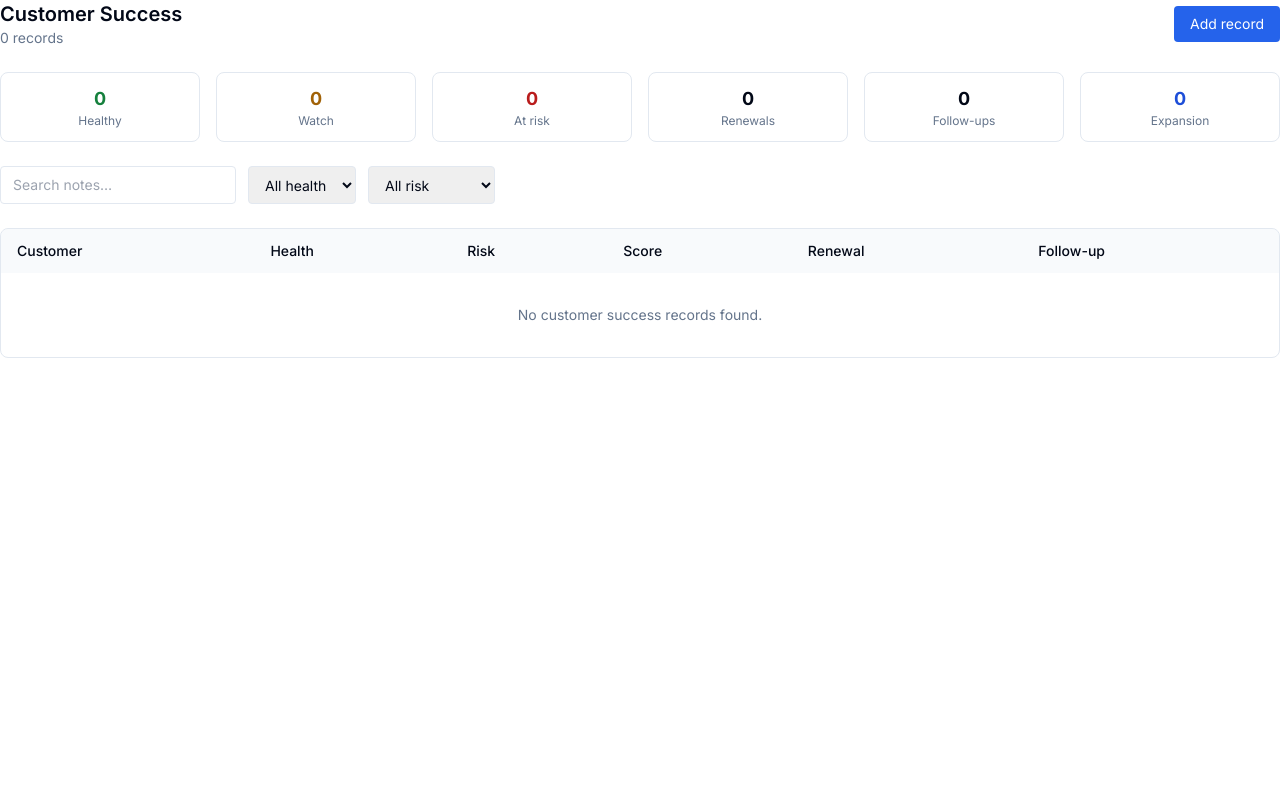
CustomerSuccessCenter › opens create-dialog on add-record-btn click
What coordinates should you click on to do the following:
click the button with test id "add-record-btn"
I would click on:
 (1227, 24)
Its box is [1174,6,1279,42].
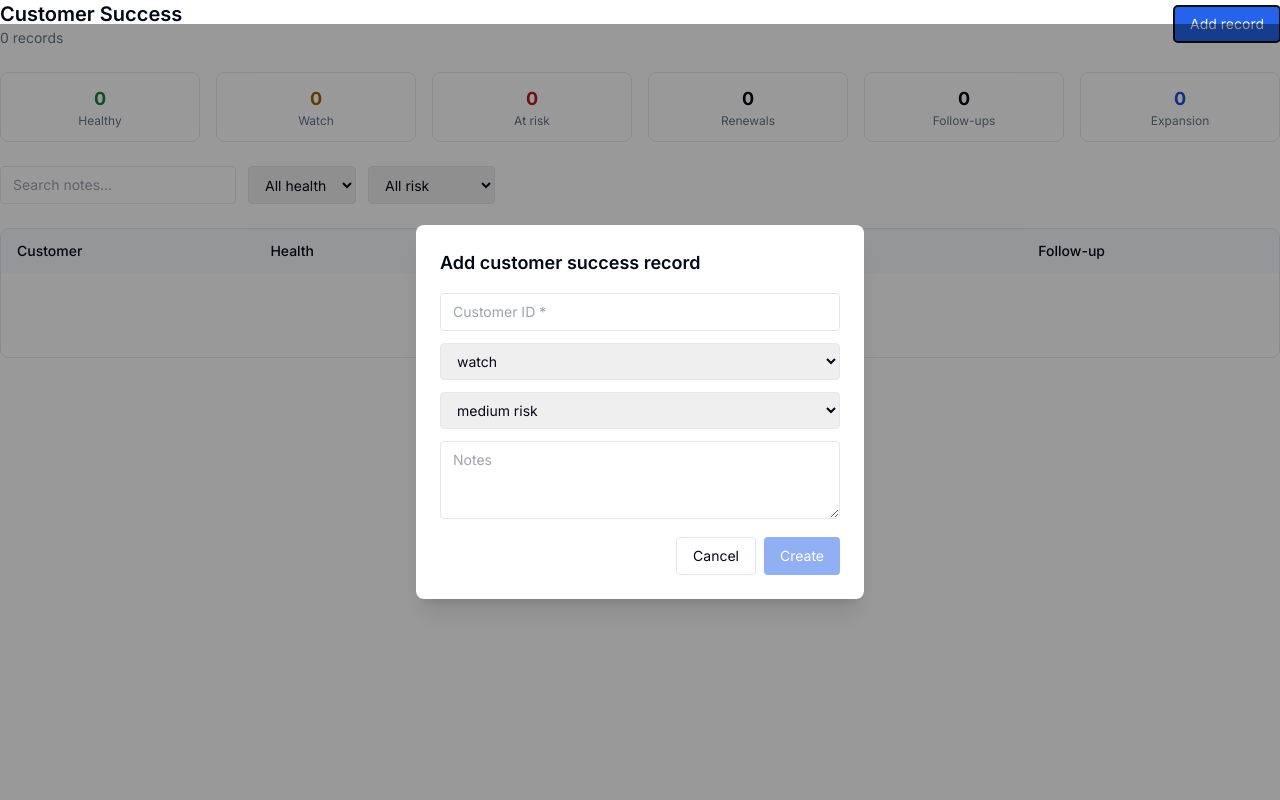
Now the element with test id "create-dialog" is shown
